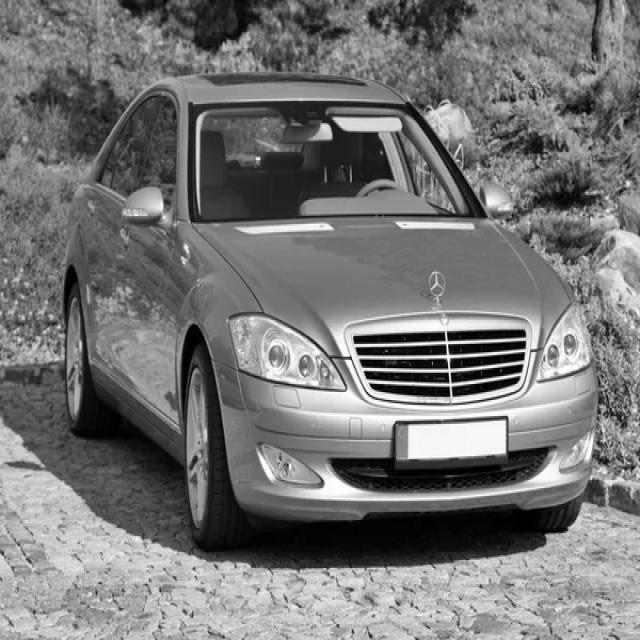Car: (63, 73, 598, 550)
